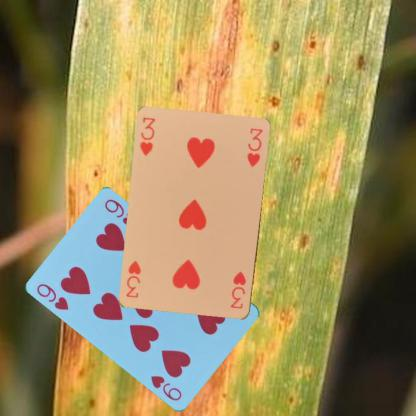3h: (228, 269, 248, 310), (138, 115, 156, 157)
9h: (34, 281, 71, 311)
